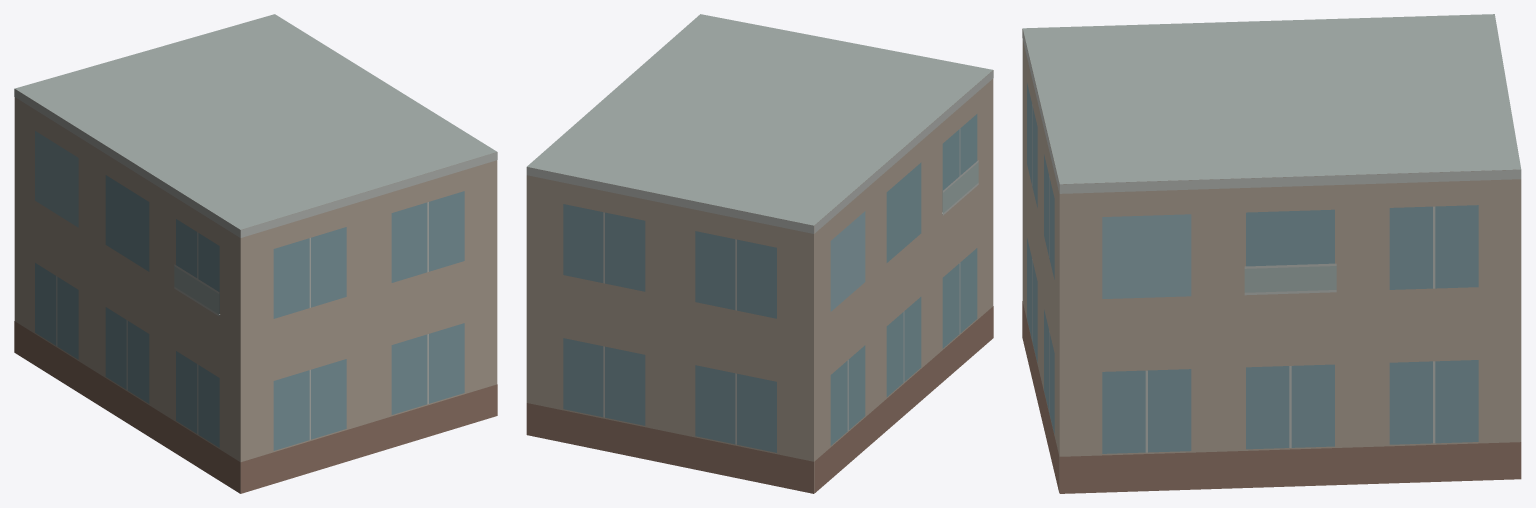
File: survey-upis-32758999.glb
The picture shows the model from 3 angles, left to right: view 1: azimuth 30°, elevation 25°; view 2: azimuth 150°, elevation 25°; view 3: azimuth 270°, elevation 25°; orthographic projection. The views are drawn at different scales.
Parts seen in each view (by area): view 1: survey-upis-32758999.tmp; view 2: survey-upis-32758999.tmp; view 3: survey-upis-32758999.tmp.
Boxes of the visible parts, left/top/right/bottom form: survey-upis-32758999.tmp: left=14, top=14, right=497, bottom=493; survey-upis-32758999.tmp: left=526, top=14, right=993, bottom=493; survey-upis-32758999.tmp: left=1022, top=14, right=1521, bottom=493.
Size of the model in its own units: 9.21 by 7.8 by 11.4.
